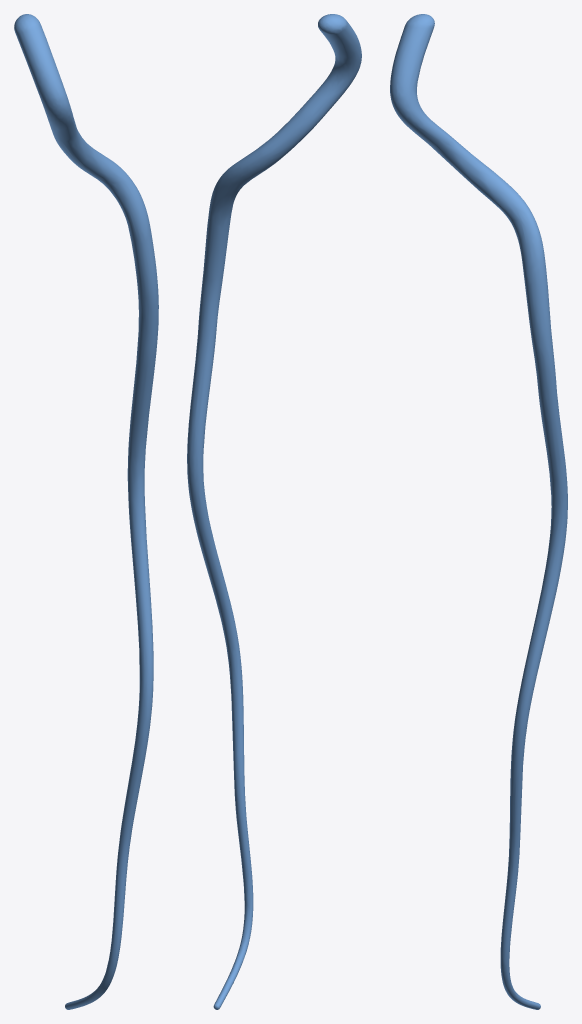
The picture shows the model from 3 angles, left to right: view 1: azimuth 30°, elevation 25°; view 2: azimuth 150°, elevation 25°; view 3: azimuth 330°, elevation 25°; orthographic projection. The views are drawn at different scales.
Parts seen in each view (by area): view 1: BP5874_left_deep_femoral_vein; view 2: BP5874_left_deep_femoral_vein; view 3: BP5874_left_deep_femoral_vein.
Part boxes in pixels (<box>): BP5874_left_deep_femoral_vein: <box>14,14,158,1009</box>; BP5874_left_deep_femoral_vein: <box>187,14,361,1009</box>; BP5874_left_deep_femoral_vein: <box>390,14,567,1009</box>.
Bounding box in the file's own units: 0.0459 × 0.3102 × 0.0384.
